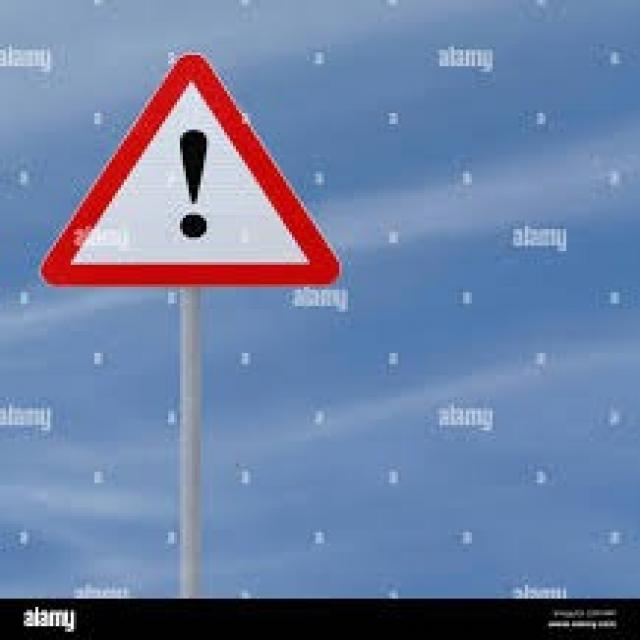warning: (40, 49, 340, 294)
